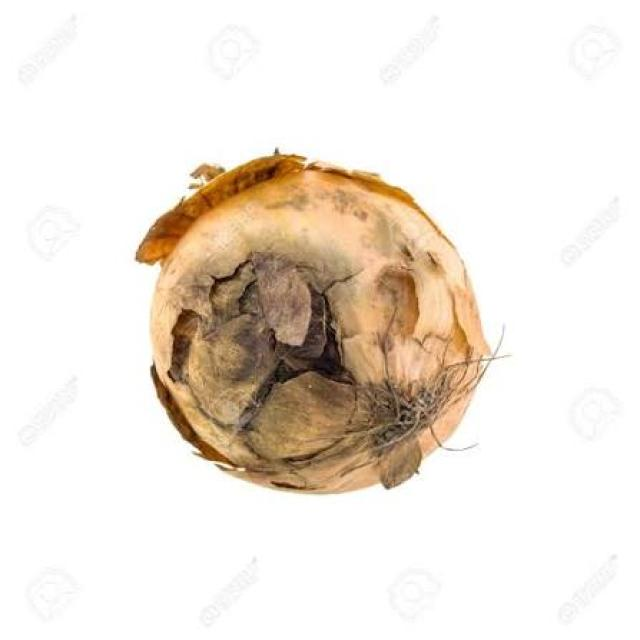rotten: (23, 61, 640, 526), (137, 152, 491, 493)
